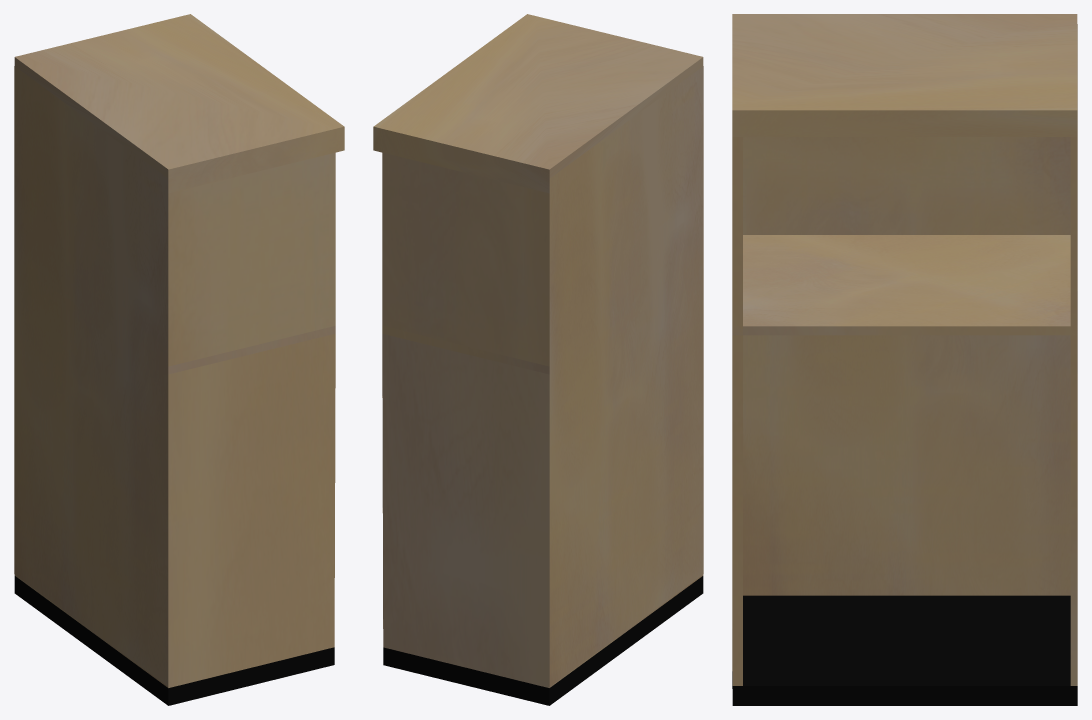
File: CabinetLayout.fbx
3 views of the same model, side by side, from view 1: azimuth 30°, elevation 25°; view 2: azimuth 150°, elevation 25°; view 3: azimuth 270°, elevation 25° (orthographic). The views are drawn at different scales.
Visible parts, largest first — view 1: Cube.002; view 2: Cube.002; view 3: Cube.002.
Boxes of the visible parts, box(x1,y1,x2,y2) form: Cube.002: box(14, 14, 344, 705); Cube.002: box(373, 14, 703, 705); Cube.002: box(732, 14, 1077, 705).
Bounding box in the file's own units: 27.49 × 79.97 × 41.62.
Materials: 1 (1 with a texture image).
